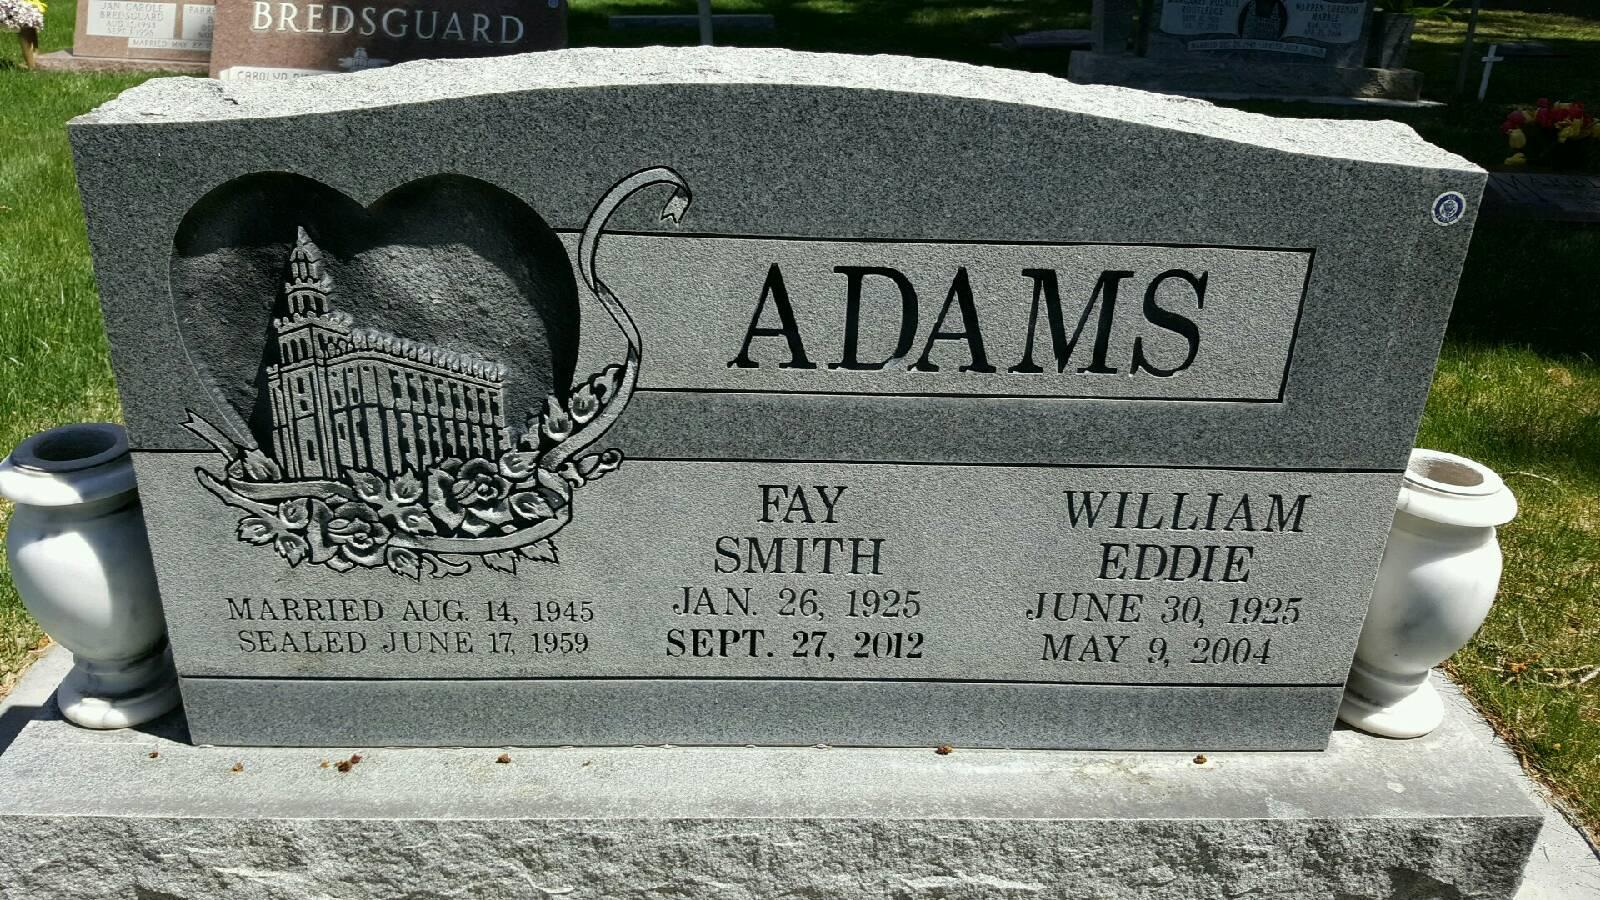upright: (7, 51, 1543, 900)
